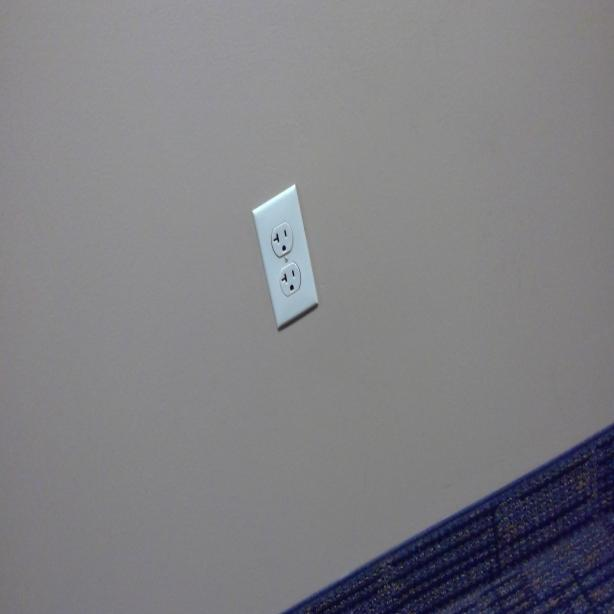typeb: (272, 222, 294, 256), (279, 265, 301, 296)
